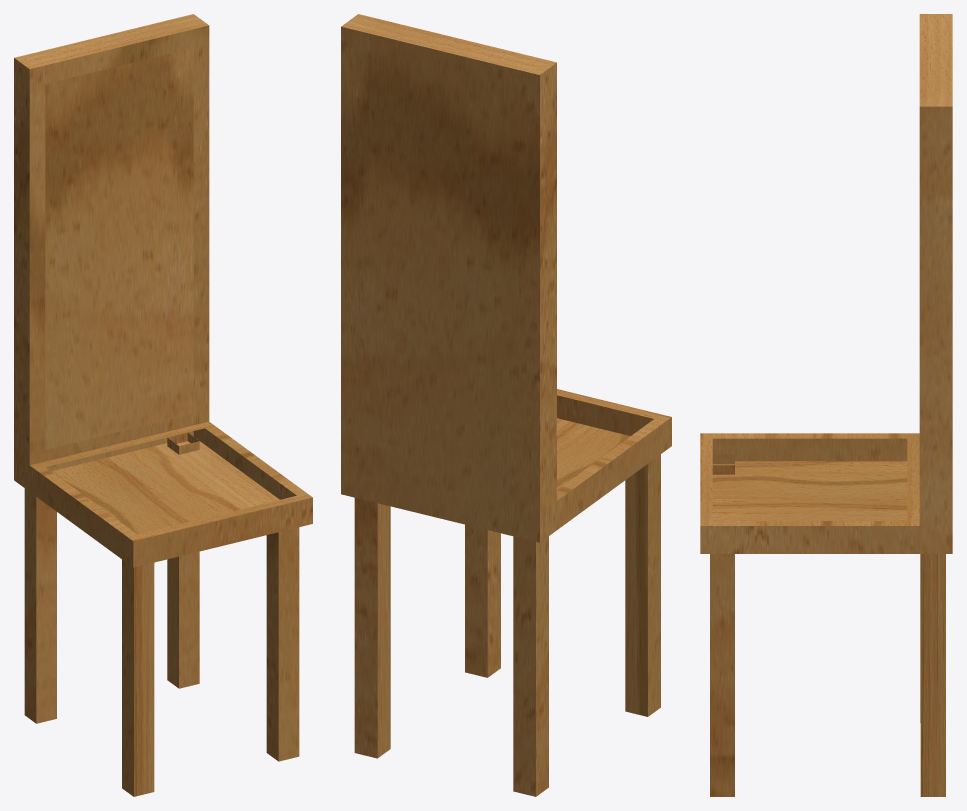
Rendered from Chair.obj.
3 views of the same model, side by side, from view 1: azimuth 30°, elevation 25°; view 2: azimuth 150°, elevation 25°; view 3: azimuth 270°, elevation 25° (orthographic). The views are drawn at different scales.
Parts seen in each view (by area): view 1: Chair; view 2: Chair; view 3: Chair.
Boxes of the visible parts, x1=… form: Chair: x1=14, y1=14, x2=312, y2=796; Chair: x1=341, y1=14, x2=671, y2=796; Chair: x1=700, y1=14, x2=952, y2=796.
Bounding box in the file's own units: 1.05 × 3.67 × 1.21.
